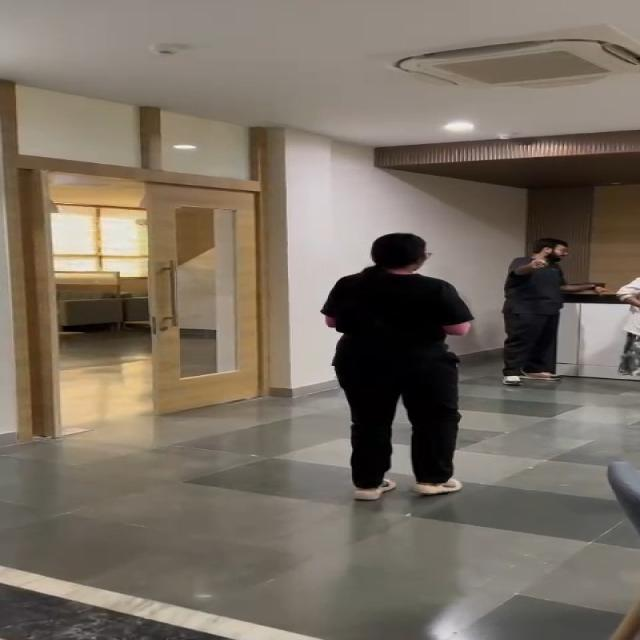door: (32, 152, 258, 424)
floor: (8, 433, 462, 640)
furniture: (614, 469, 640, 640)
moving_object: (331, 252, 454, 485), (515, 215, 640, 380)
